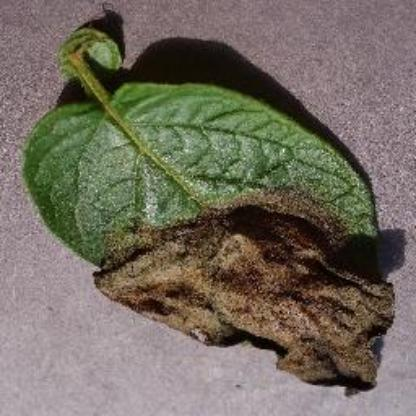Late-Blight: (17, 14, 406, 402)
